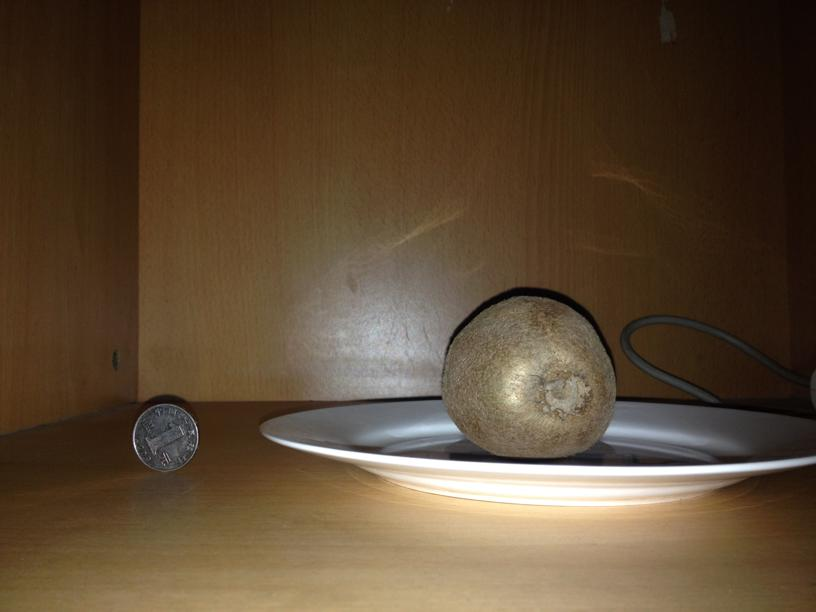coin: (129, 402, 202, 474)
qiwi: (439, 294, 619, 459)
